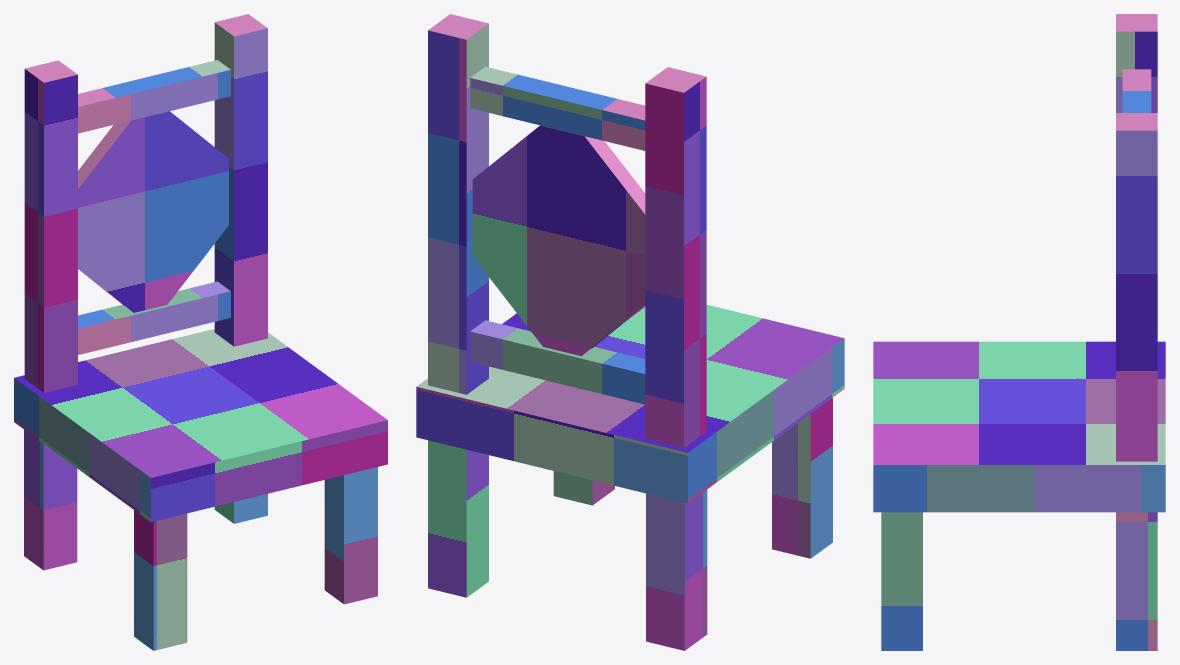
Rendered from rmk_blu_chairS_jwl.dae.
3 views of the same model, side by side, from view 1: azimuth 30°, elevation 25°; view 2: azimuth 150°, elevation 25°; view 3: azimuth 270°, elevation 25° (orthographic). The views are drawn at different scales.
Visible parts, largest first — view 1: rmk_blu_chairS_jwl; view 2: rmk_blu_chairS_jwl; view 3: rmk_blu_chairS_jwl.
Boxes of the visible parts, <box> form: rmk_blu_chairS_jwl: <box>14,14,387,650</box>; rmk_blu_chairS_jwl: <box>416,14,844,650</box>; rmk_blu_chairS_jwl: <box>873,14,1165,650</box>.
Bounding box in the file's own units: 22.4 × 44 × 22.4.
Materials: 1 (1 with a texture image).
